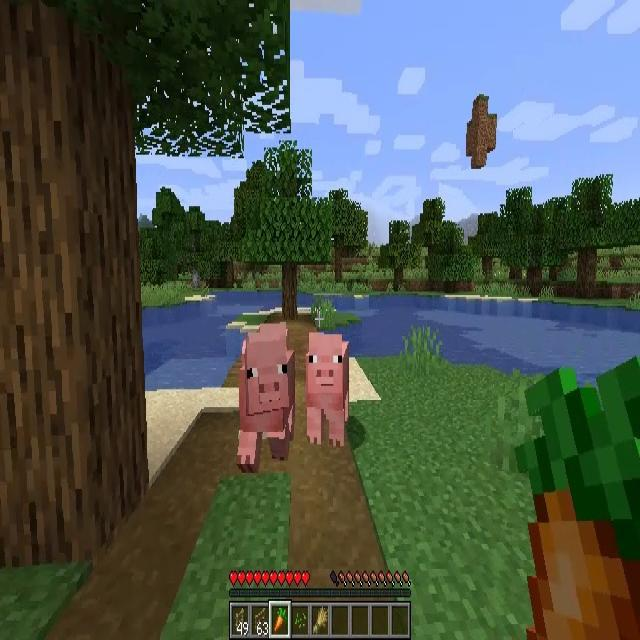pig: (236, 323, 294, 473), (305, 332, 351, 448)
